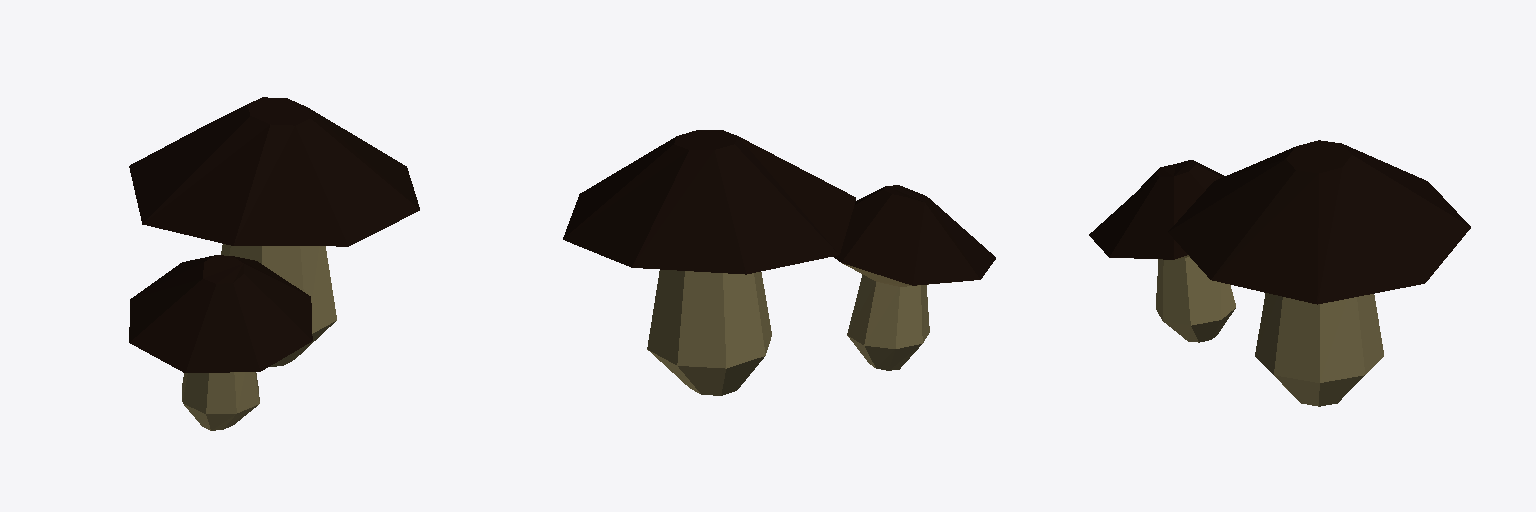
The model's file is brown_mushroom.obj.
The picture shows the model from 3 angles: view 1: azimuth 30°, elevation 25°; view 2: azimuth 150°, elevation 25°; view 3: azimuth 270°, elevation 25°; orthographic projection.
Parts seen in each view (by area): view 1: pasted__mushroom group, group pasted__mushroom2; view 2: pasted__mushroom group, group pasted__mushroom2; view 3: pasted__mushroom group, group pasted__mushroom2.
Part boxes in pixels (x1,y1,x2,y2): pasted__mushroom group: (129, 97, 419, 366); group pasted__mushroom2: (129, 255, 312, 430); pasted__mushroom group: (563, 130, 855, 395); group pasted__mushroom2: (833, 185, 995, 370); pasted__mushroom group: (1168, 140, 1470, 406); group pasted__mushroom2: (1089, 160, 1235, 342).
Bounding box in the file's own units: 1.07 × 0.7437 × 1.05.